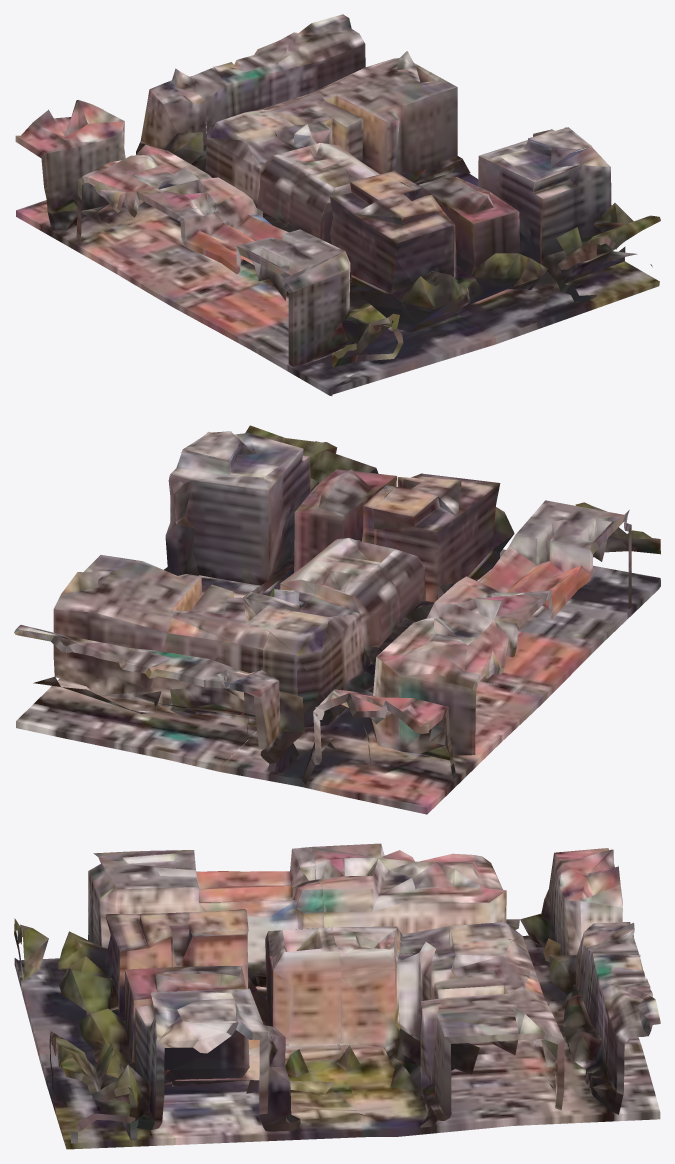
The picture shows the model from 3 angles, top to bottom: view 1: azimuth 30°, elevation 25°; view 2: azimuth 150°, elevation 25°; view 3: azimuth 270°, elevation 25°; orthographic projection. The views are drawn at different scales.
Parts seen in each view (by area): view 1: Mesh_0; view 2: Mesh_0; view 3: Mesh_0.
Boxes of the visible parts, left/top/right/bottom form: Mesh_0: left=15, top=14, right=660, bottom=395; Mesh_0: left=14, top=425, right=660, bottom=814; Mesh_0: left=14, top=843, right=660, bottom=1149.
Bounding box in the file's own units: 134 × 37.46 × 165.
Materials: 1 (1 with a texture image).
